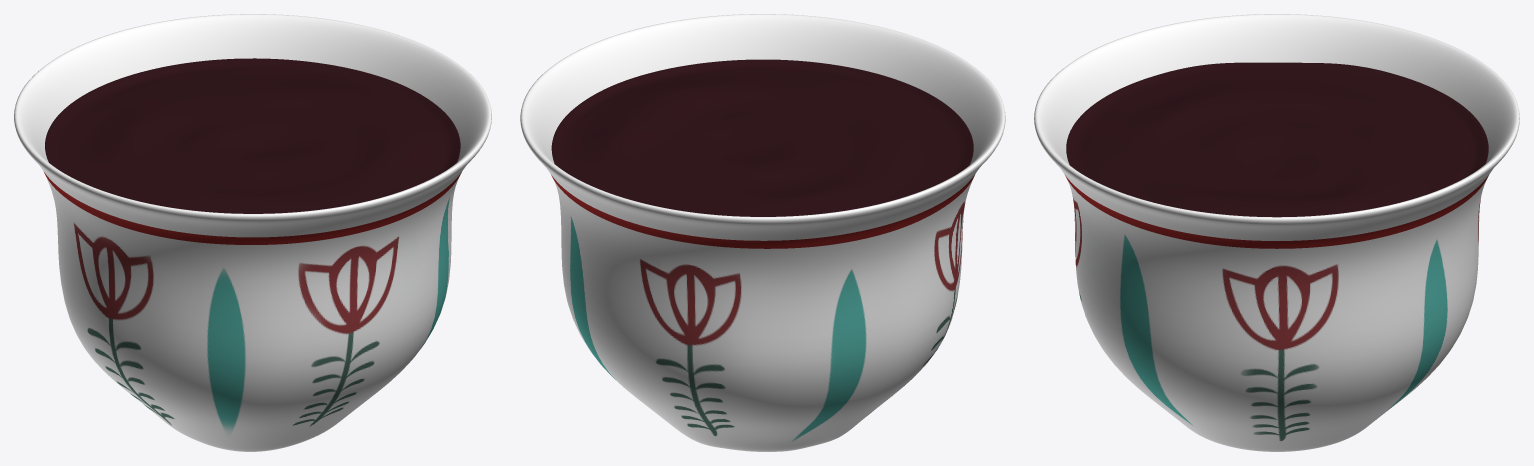
File: bunna.glb
3 views of the same model, side by side, from view 1: azimuth 30°, elevation 25°; view 2: azimuth 150°, elevation 25°; view 3: azimuth 270°, elevation 25° (orthographic).
Parts seen in each view (by area): view 1: cu.001, coffee.001; view 2: cu.001, coffee.001; view 3: cu.001, coffee.001.
Boxes of the visible parts, box(x1,y1,x2,y2) form: cu.001: box(14, 14, 491, 451); coffee.001: box(45, 58, 460, 213); cu.001: box(520, 14, 1005, 451); coffee.001: box(551, 59, 973, 216); cu.001: box(1034, 14, 1519, 451); coffee.001: box(1066, 62, 1488, 217).
Bounding box in the file's own units: 0.1543 × 0.1065 × 0.1543.
3 materials, 1 textured.
